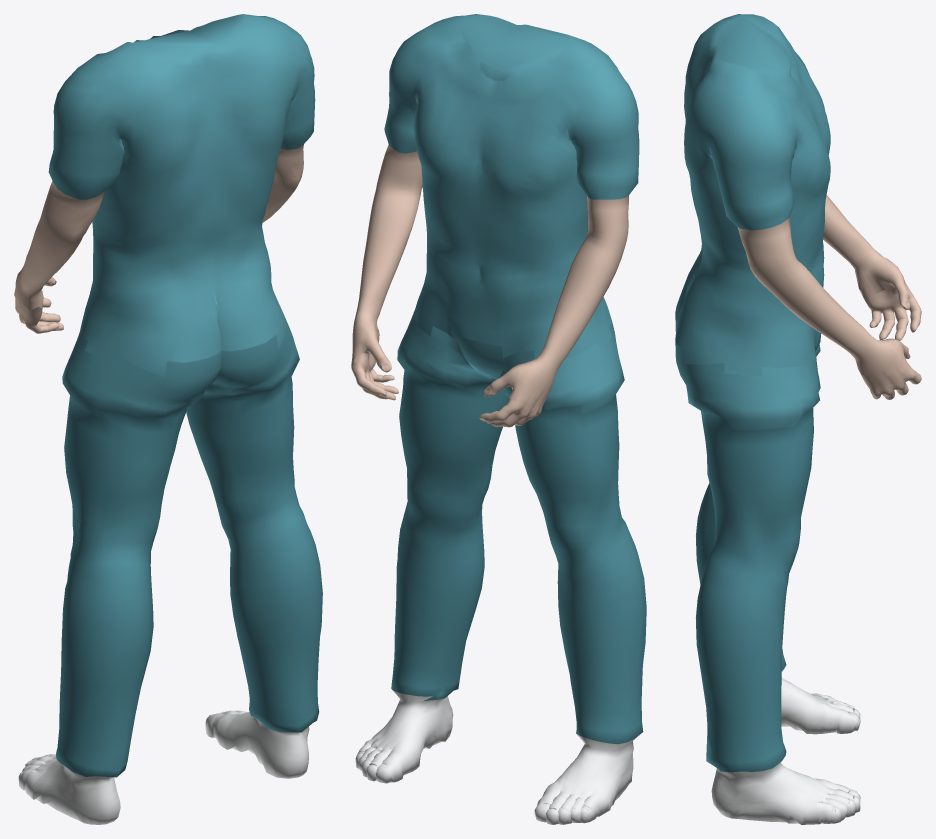
The model's file is medecin.glb.
The picture shows the model from 3 angles, left to right: view 1: azimuth 30°, elevation 25°; view 2: azimuth 150°, elevation 25°; view 3: azimuth 270°, elevation 25°; orthographic projection. The views are drawn at different scales.
Visible parts, largest first — view 1: Jambes, Buste; view 2: Buste, Jambes; view 3: Buste, Jambes.
Part boxes in pixels (x1,y1,x2,y2): Jambes: (14,281,322,824); Buste: (15,14,315,377); Buste: (352,14,639,401); Jambes: (351,309,646,824); Buste: (675,14,910,377); Jambes: (675,286,921,824).
Size of the model in its own units: 0.5382 by 1.53 by 0.4714.
